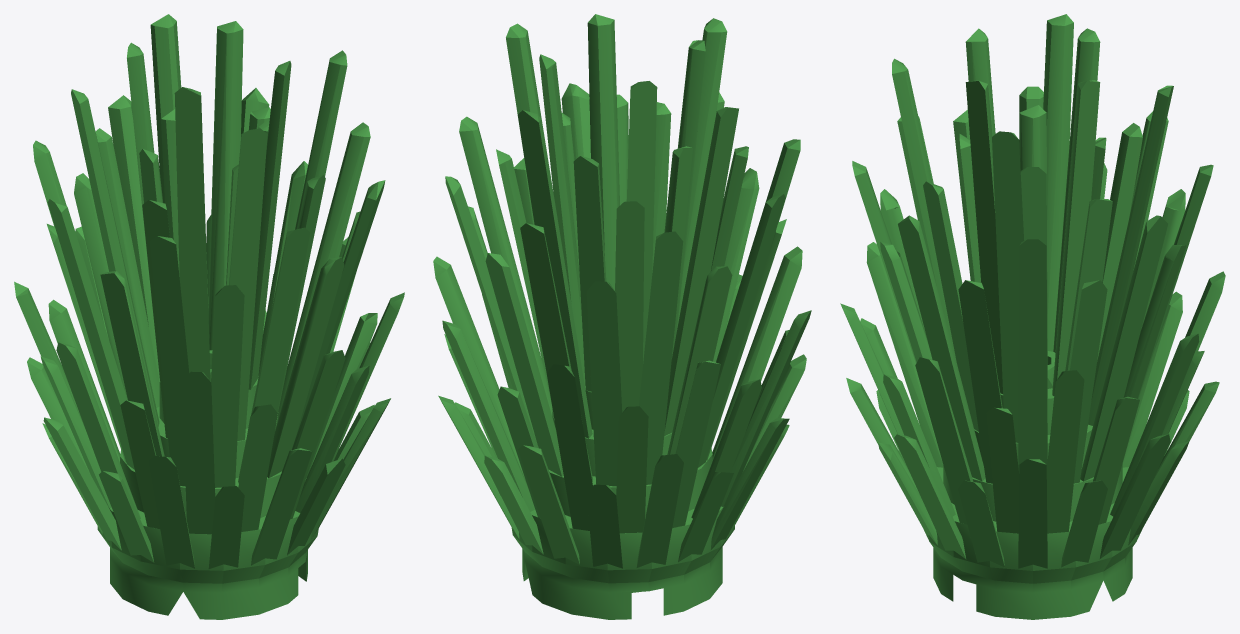
Rendered from reed.glb.
3 renders of one model, left to right at view 1: azimuth 30°, elevation 25°; view 2: azimuth 150°, elevation 25°; view 3: azimuth 270°, elevation 25°, orthographic.
Visible parts, largest first — view 1: reed; view 2: reed; view 3: reed.
Boxes of the visible parts, <box> form: reed: <box>14,14,404,619</box>; reed: <box>433,14,811,619</box>; reed: <box>840,14,1225,619</box>.
Size of the model in its own units: 1.46 by 2.19 by 1.46.
